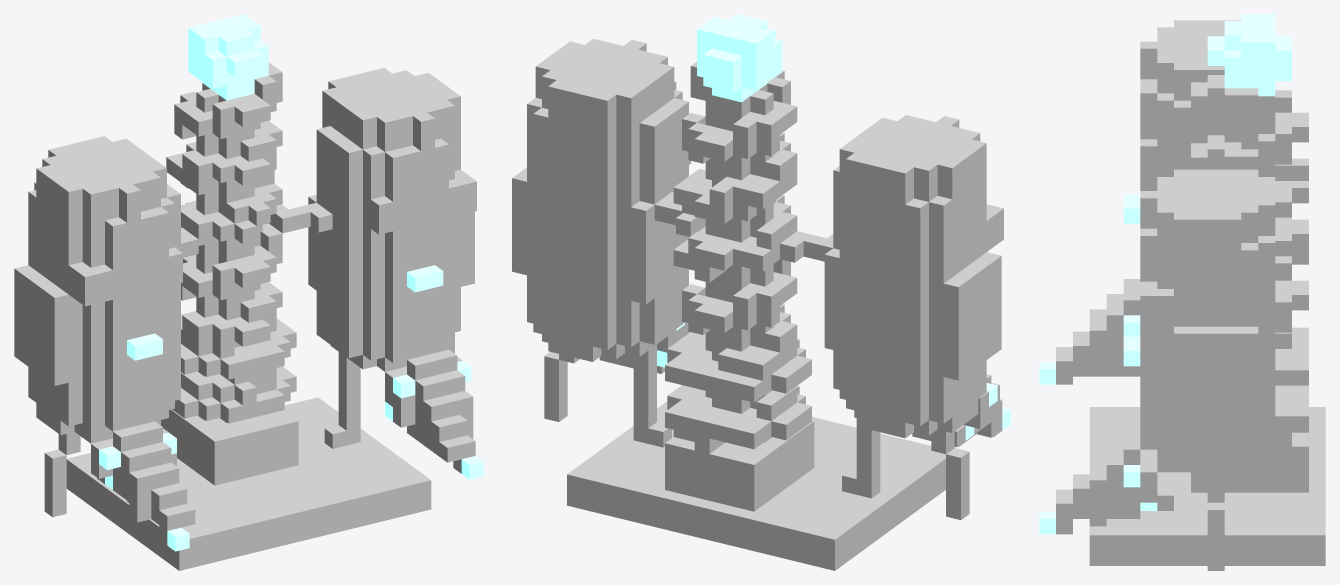
Rendered from IceDrill_A_T3.fbx.
3 views of the same model, side by side, from view 1: azimuth 30°, elevation 25°; view 2: azimuth 150°, elevation 25°; view 3: azimuth 270°, elevation 25° (orthographic). The views are drawn at different scales.
Parts seen in each view (by area): view 1: IceDrillT3SnowWhite, IceDrillT3IceBlue, IceDrillT3SteelLight, IceDrillT3GlacierBlue, IceDrillT3NavyIce, IceDrillT3AuroraCyanGlow, IceDrillT3DeepIce, IceDrillT3SteelDark; view 2: IceDrillT3SnowWhite, IceDrillT3IceBlue, IceDrillT3SteelLight, IceDrillT3GlacierBlue, IceDrillT3SteelDark, IceDrillT3AuroraCyanGlow, IceDrillT3NavyIce, IceDrillT3DeepIce; view 3: IceDrillT3SnowWhite, IceDrillT3IceBlue, IceDrillT3SteelLight, IceDrillT3GlacierBlue, IceDrillT3AuroraCyanGlow, IceDrillT3DeepIce, IceDrillT3NavyIce, IceDrillT3SteelDark.
Part boxes in pixels (<box>): IceDrillT3SnowWhite: <box>28,120,473,570</box>; IceDrillT3IceBlue: <box>88,62,408,531</box>; IceDrillT3SteelLight: <box>36,67,462,517</box>; IceDrillT3GlacierBlue: <box>14,195,474,524</box>; IceDrillT3NavyIce: <box>68,169,476,358</box>; IceDrillT3AuroraCyanGlow: <box>99,14,483,551</box>; IceDrillT3DeepIce: <box>121,391,475,545</box>; IceDrillT3SteelDark: <box>196,83,260,422</box>; IceDrillT3SnowWhite: <box>527,81,999,570</box>; IceDrillT3IceBlue: <box>591,62,931,529</box>; IceDrillT3SteelLight: <box>535,38,988,519</box>; IceDrillT3GlacierBlue: <box>512,167,1001,380</box>; IceDrillT3SteelDark: <box>705,84,773,442</box>; IceDrillT3AuroraCyanGlow: <box>657,14,1010,440</box>; IceDrillT3NavyIce: <box>689,160,1003,251</box>; IceDrillT3DeepIce: <box>657,322,1002,446</box>; IceDrillT3SnowWhite: <box>1089,79,1325,565</box>; IceDrillT3IceBlue: <box>1106,75,1308,528</box>; IceDrillT3SteelLight: <box>1123,20,1308,570</box>; IceDrillT3GlacierBlue: <box>1073,185,1275,518</box>; IceDrillT3AuroraCyanGlow: <box>1039,14,1291,534</box>; IceDrillT3DeepIce: <box>1056,309,1140,534</box>; IceDrillT3NavyIce: <box>1140,139,1173,373</box>; IceDrillT3SteelDark: <box>1224,96,1275,176</box>.
Bounding box in the file's own units: 375 × 388 × 212.
